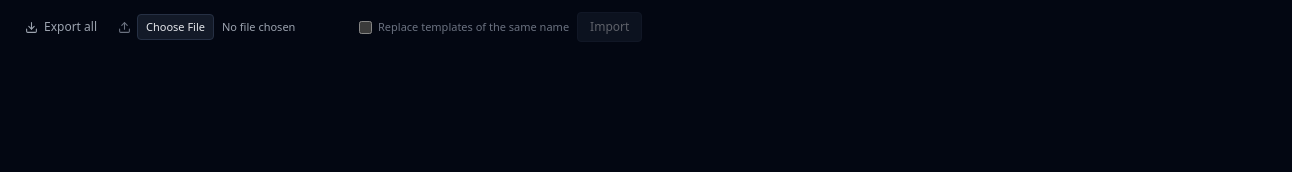
Test: exporting › says so when the export could not be read, rather than failing silently
Click the button "Export all" at x=61, y=27, box [12,12,110,42]
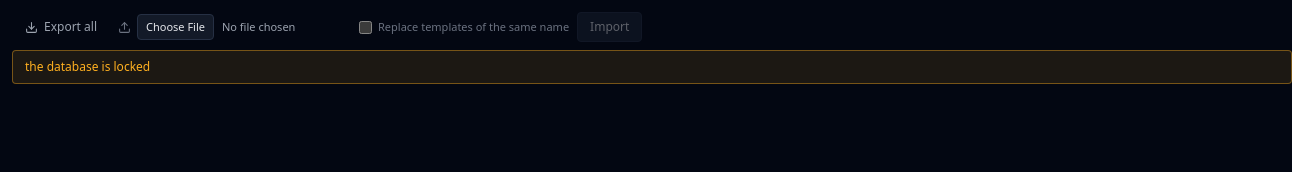
Check: the message shows "database is locked", box [25,58,150,75]
